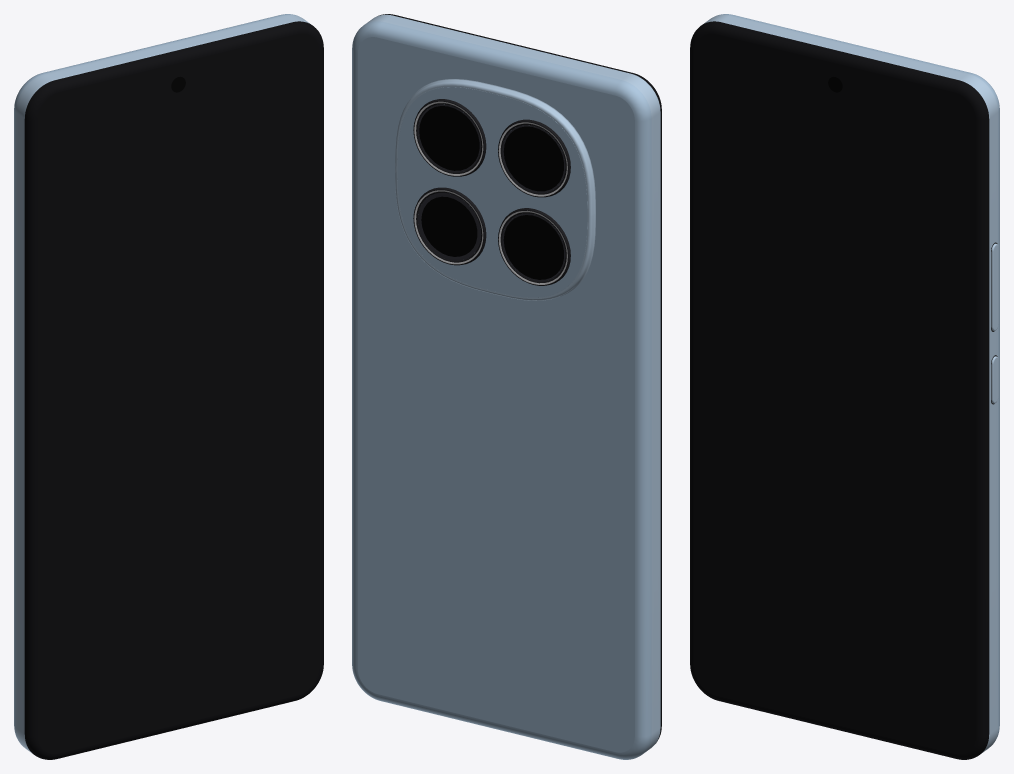
Rendered from redmi-note-14-pro-plus-5g.glb.
3 renders of one model, left to right at view 1: azimuth 30°, elevation 25°; view 2: azimuth 150°, elevation 25°; view 3: azimuth 330°, elevation 25°, orthographic.
Visible parts, largest first — view 1: body; view 2: body, camera; view 3: body, buttons.
Part boxes in pixels (x1,y1,x2,y2): body: [14, 14, 323, 759]; body: [352, 14, 661, 759]; camera: [395, 79, 595, 300]; body: [690, 14, 999, 759]; buttons: [991, 242, 998, 404].
Bounding box in the file's own units: 75.1 × 163 × 11.17.
